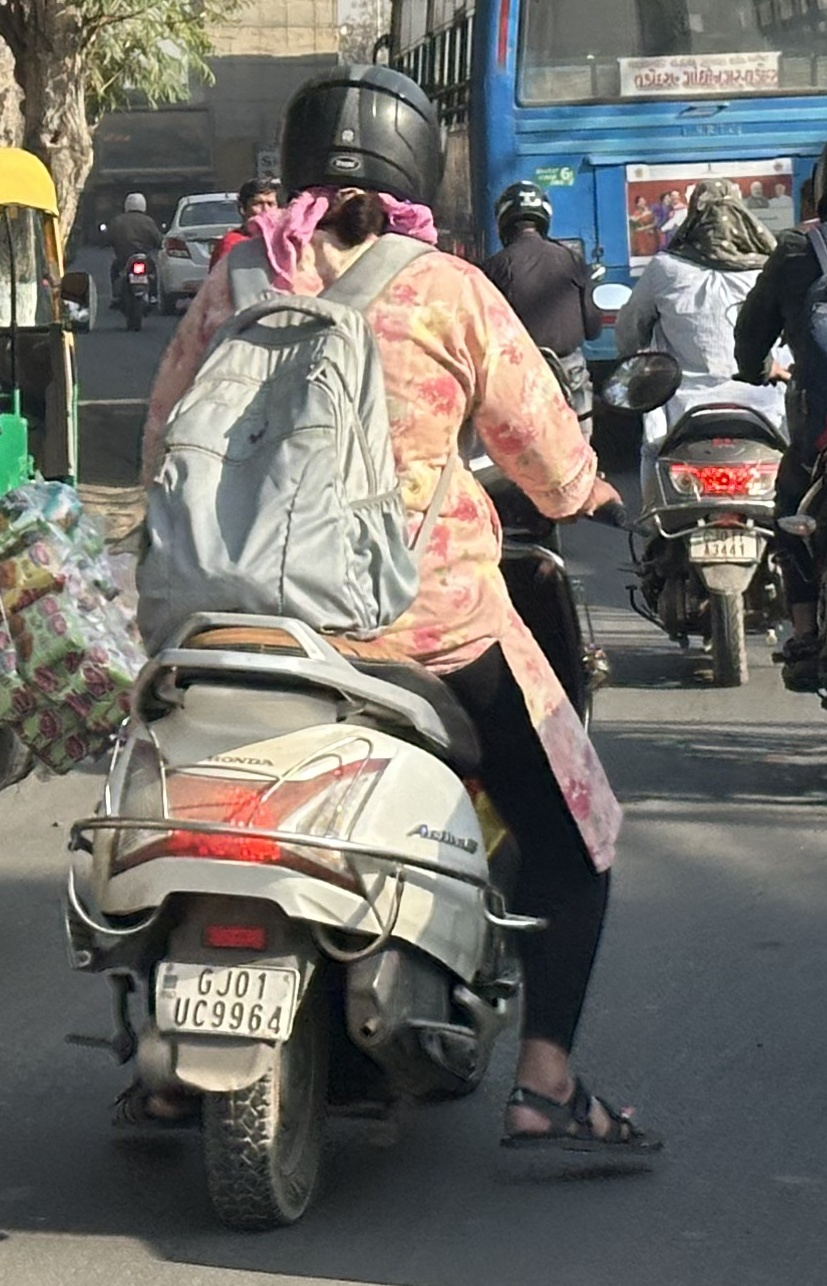BikeWithRider: (45, 50, 675, 1243), (594, 168, 822, 698), (94, 182, 173, 338)
Helmet: (264, 51, 458, 253), (485, 172, 563, 253)
